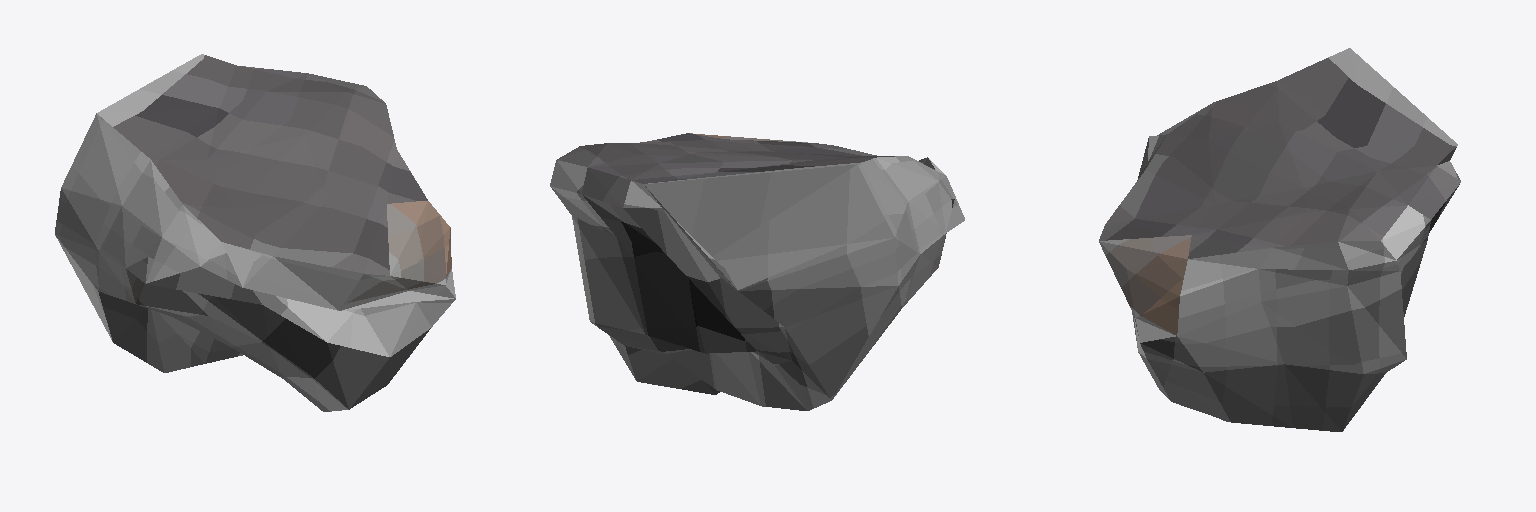
3 renders of one model, left to right at view 1: azimuth 30°, elevation 25°; view 2: azimuth 150°, elevation 25°; view 3: azimuth 270°, elevation 25°, orthographic.
Visible parts, largest first — view 1: 2; view 2: 2; view 3: 2.
Boxes of the visible parts, <box> form: 2: <box>55,54,455,411</box>; 2: <box>550,133,964,410</box>; 2: <box>1099,48,1460,431</box>.
Size of the model in its own units: 3.83 by 3.25 by 3.63.
1 materials, 1 textured.